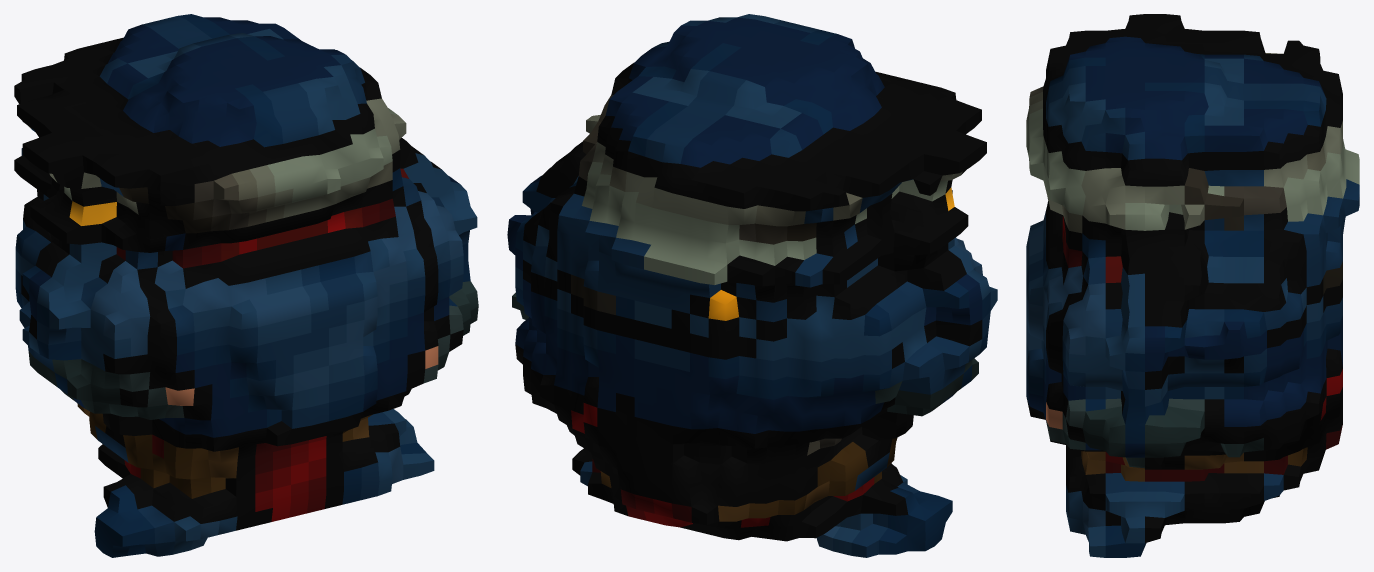
The model's file is Icon_727_03.obj.
3 views of the same model, side by side, from view 1: azimuth 30°, elevation 25°; view 2: azimuth 150°, elevation 25°; view 3: azimuth 270°, elevation 25° (orthographic). The views are drawn at different scales.
Bounding box in the file's own units: 2.4 × 2.4 × 1.68.
